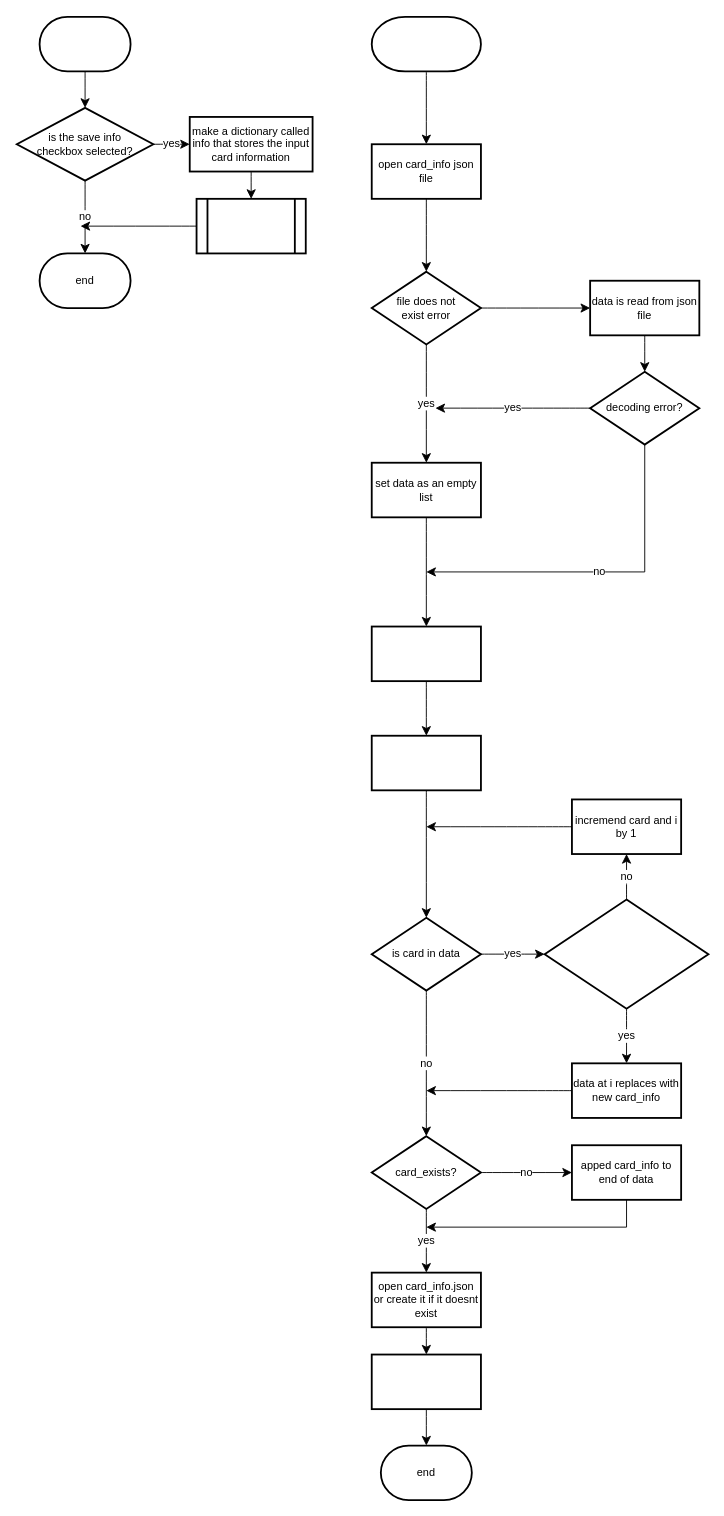
This 724x1516 diagram has some shape labels left out. Each missing label, with the centre of its shape:
card_exists = False: the point at 425,653
i = 0 card = 0: the point at 425,762
is card_type value in data teh same as the card_type value in card_info?: the point at 626,953
save_all_info: the point at 84,43
save_info dictionary: card_info: the point at 425,43
save_info(info): the point at 250,225
write data to file with indent formatting: the point at 425,1381
